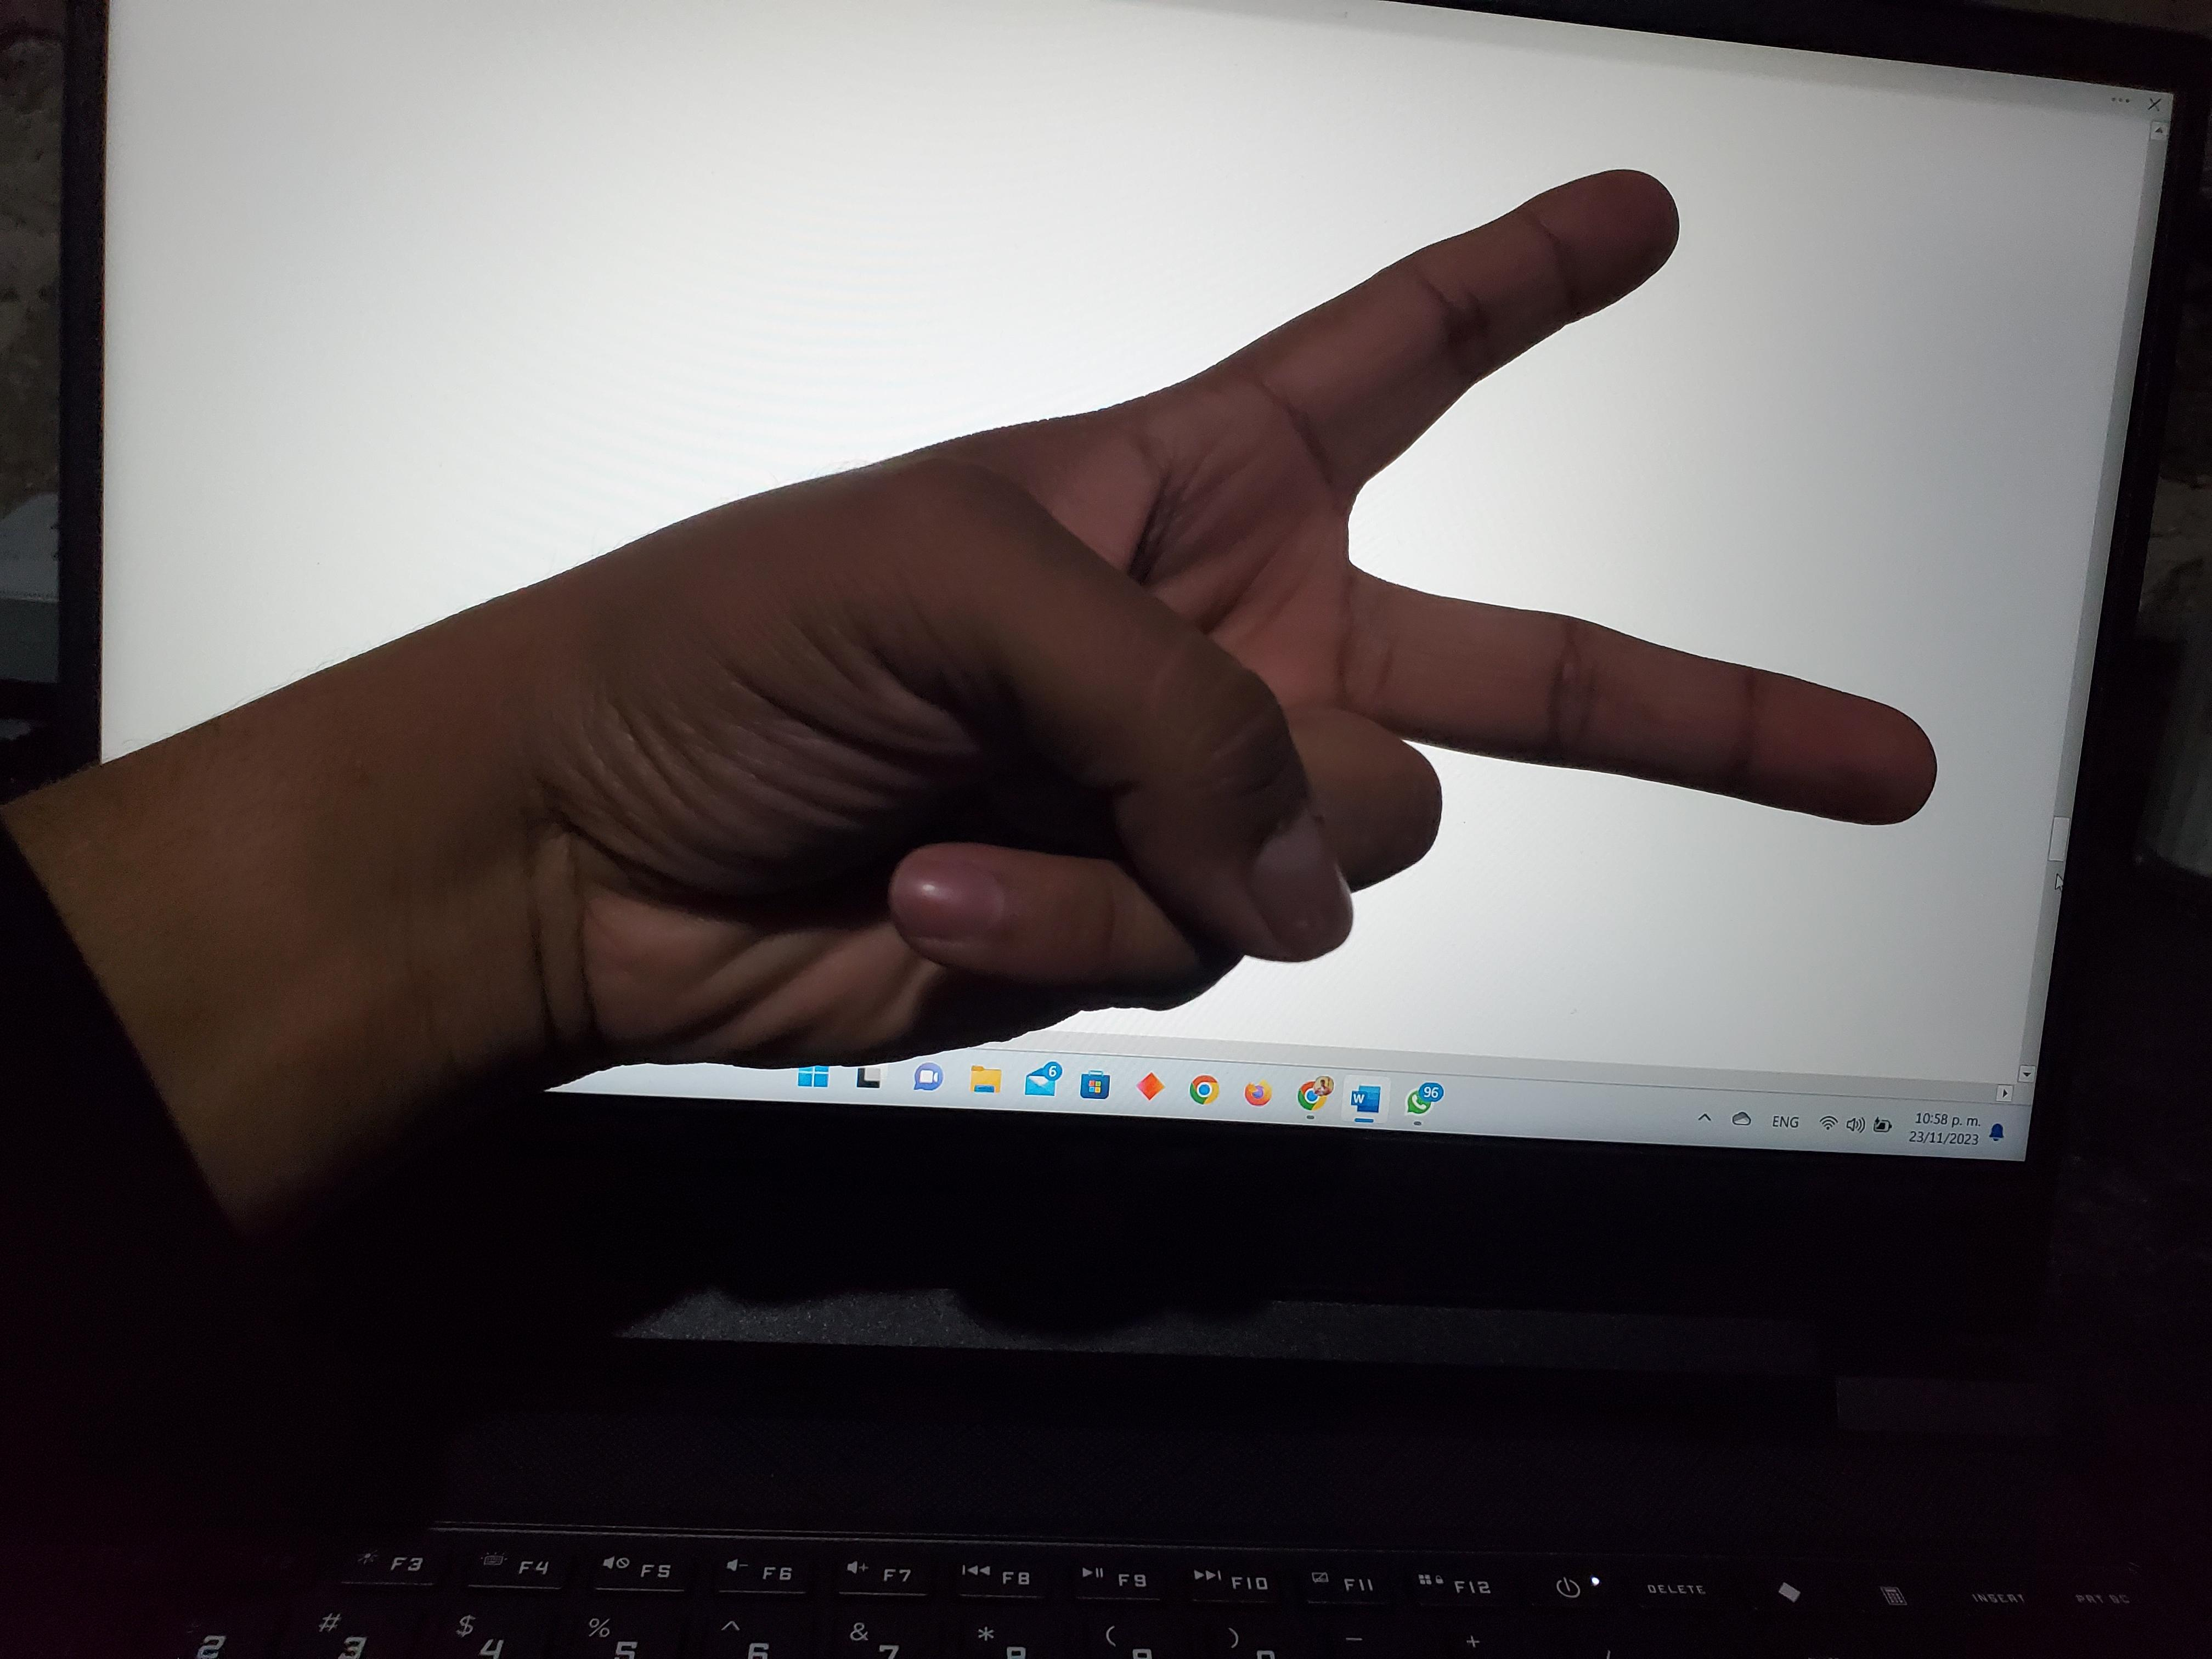Scissor: (23, 0, 2055, 1356)
